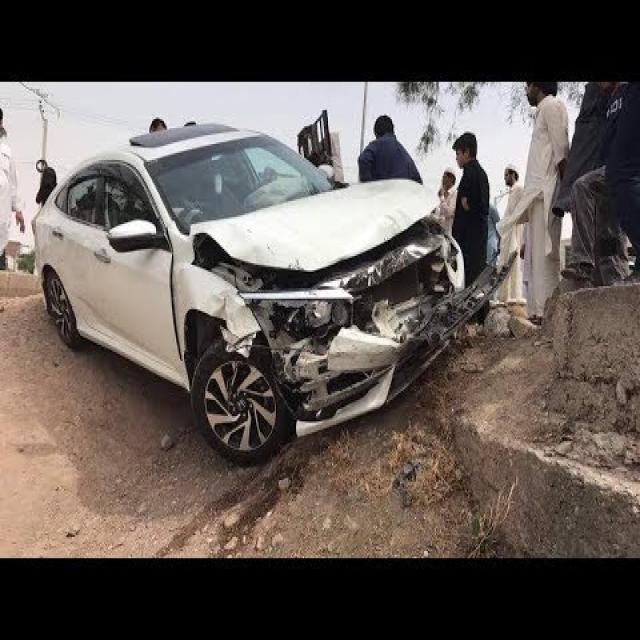crush: (189, 179, 521, 438)
